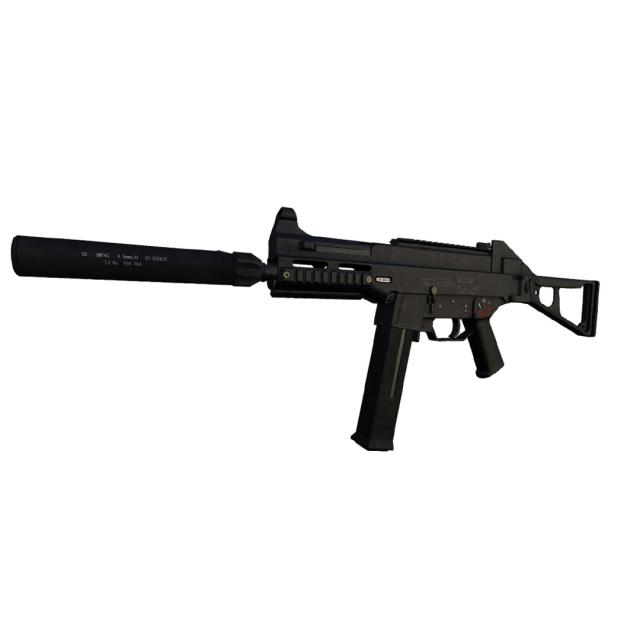Gun: (10, 193, 636, 437)
